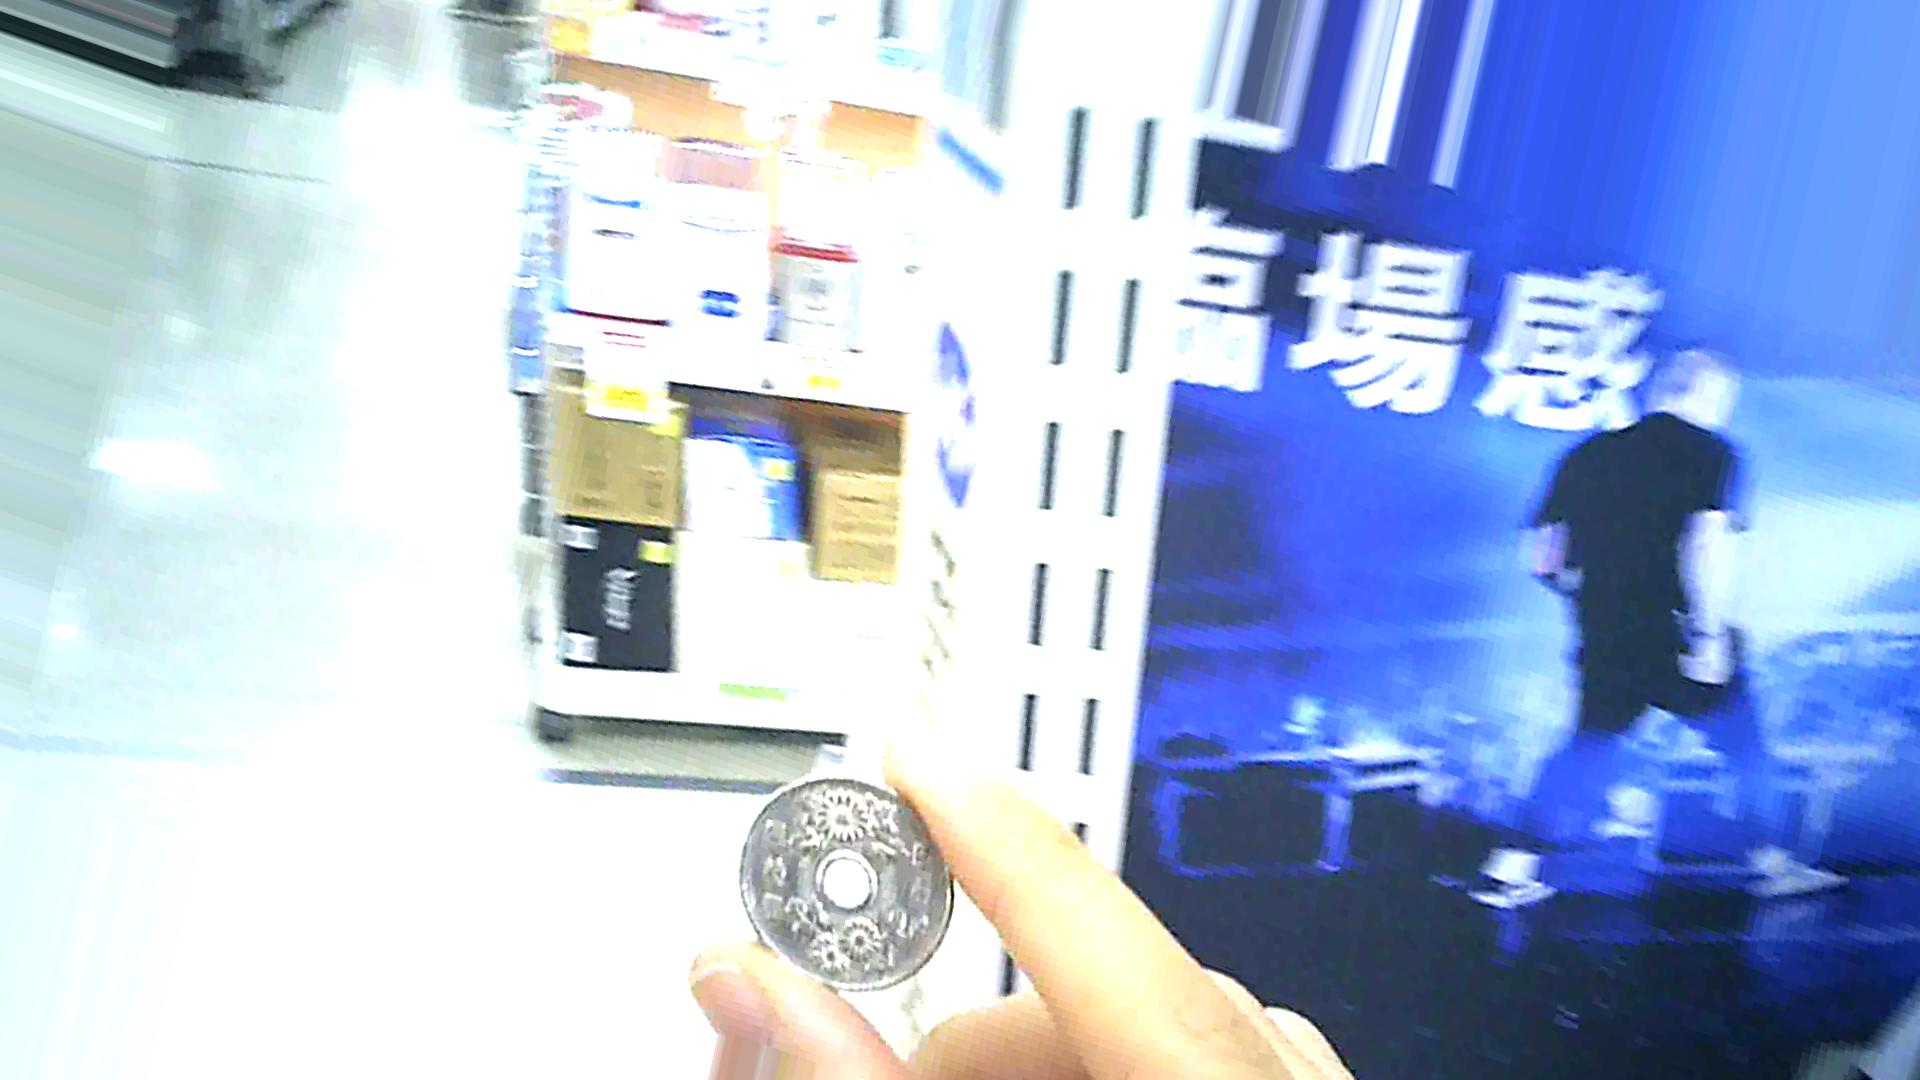50 Yen: (738, 765, 940, 984)
